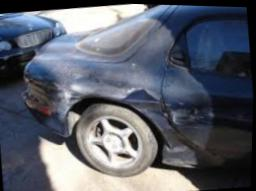Door: (162, 76, 233, 159)
Fender: (54, 43, 206, 163)
Light: (20, 77, 51, 114)
